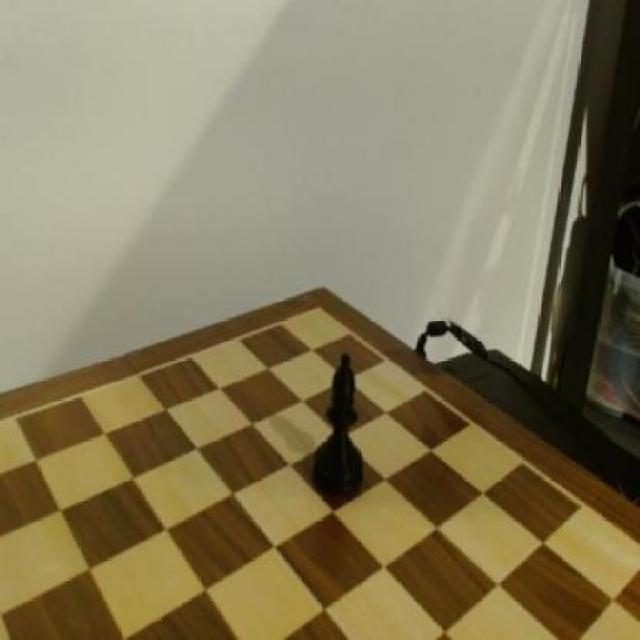bishop: (312, 344, 370, 508)
